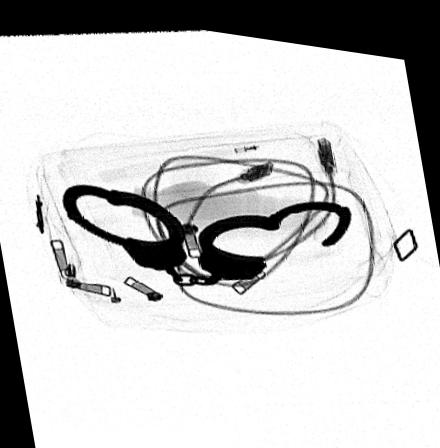HandCuffs: (61, 179, 355, 281)
